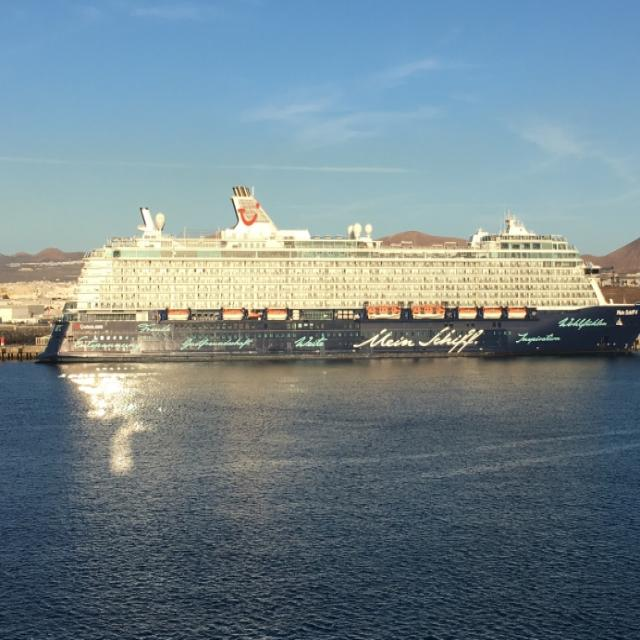cruises: (31, 181, 640, 367)
